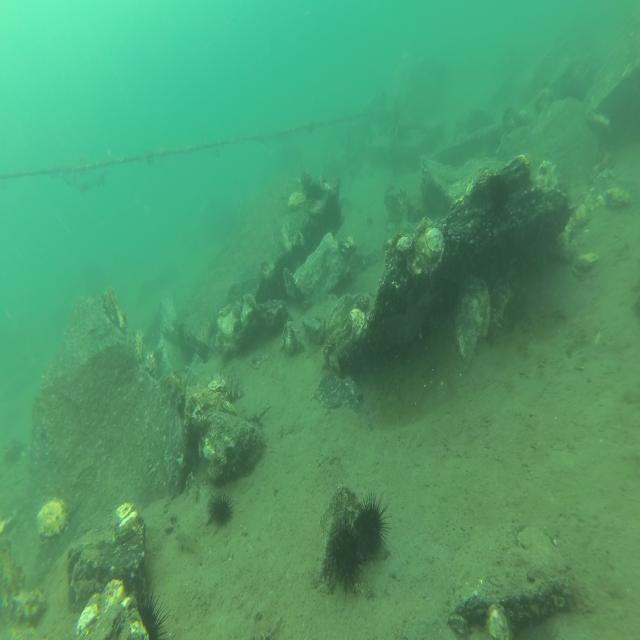echinus: (323, 513, 369, 598), (358, 487, 392, 562), (136, 582, 172, 640), (204, 489, 236, 527), (488, 168, 508, 216), (307, 176, 322, 200), (333, 202, 342, 226)
holothurian: (205, 366, 245, 400)
starfish: (382, 282, 441, 354)
